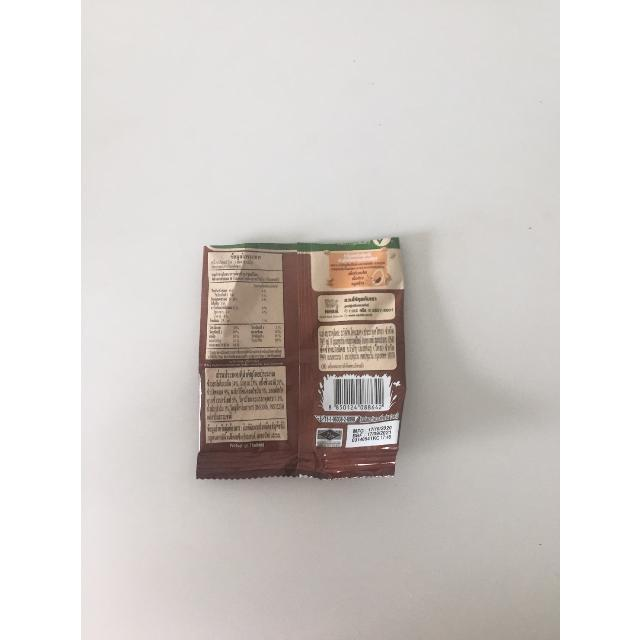Paquete de plastico: (195, 236, 397, 480)
